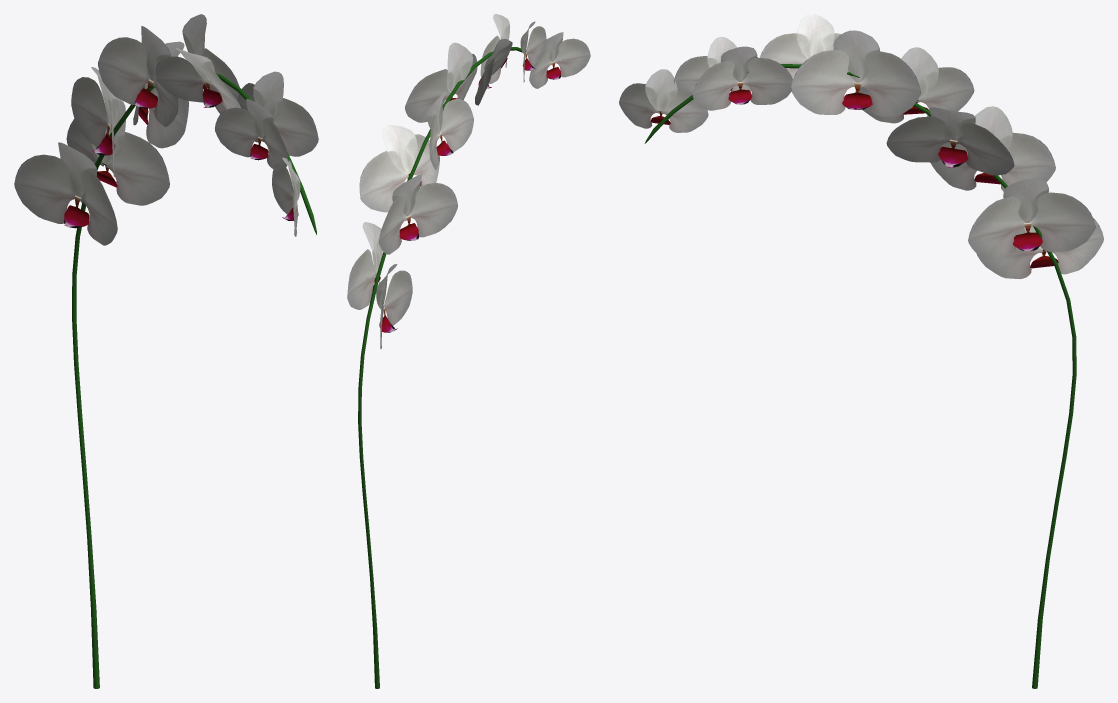
3 views of the same model, side by side, from view 1: azimuth 30°, elevation 25°; view 2: azimuth 150°, elevation 25°; view 3: azimuth 270°, elevation 25° (orthographic). The views are drawn at different scales.
Visible parts, largest first — view 1: orchid; view 2: orchid; view 3: orchid.
Part boxes in pixels (bbox=[...]): orchid: bbox=[14, 14, 318, 688]; orchid: bbox=[347, 14, 590, 688]; orchid: bbox=[619, 14, 1103, 688].
Size of the model in its own units: 0.3719 by 3.23 by 2.15.
Materials: 2 (1 with a texture image).
